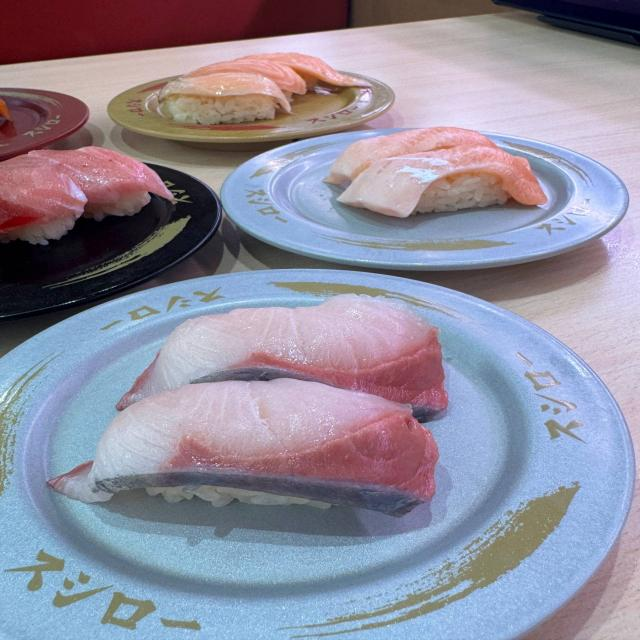janback: (0, 149, 203, 294)
jangold: (260, 135, 621, 268), (82, 45, 374, 116)
janred: (0, 76, 96, 154)
janwoven: (0, 295, 621, 616)
